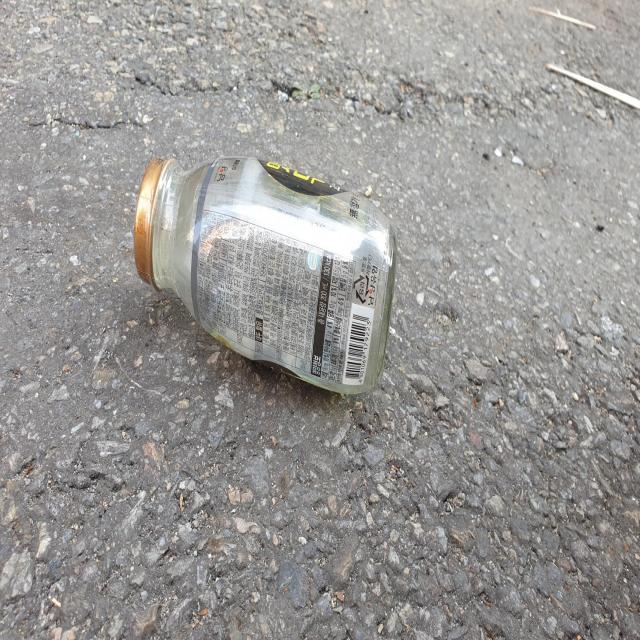glass: (134, 156, 396, 393)
